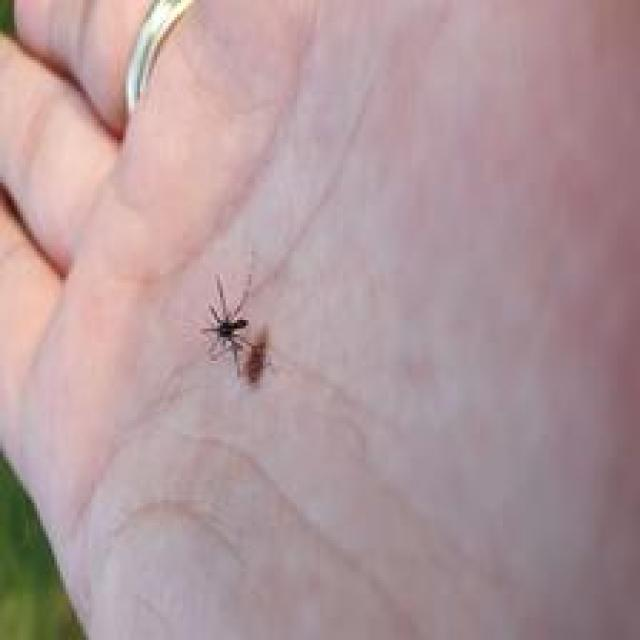Aedes albopictus: (200, 271, 254, 366)
